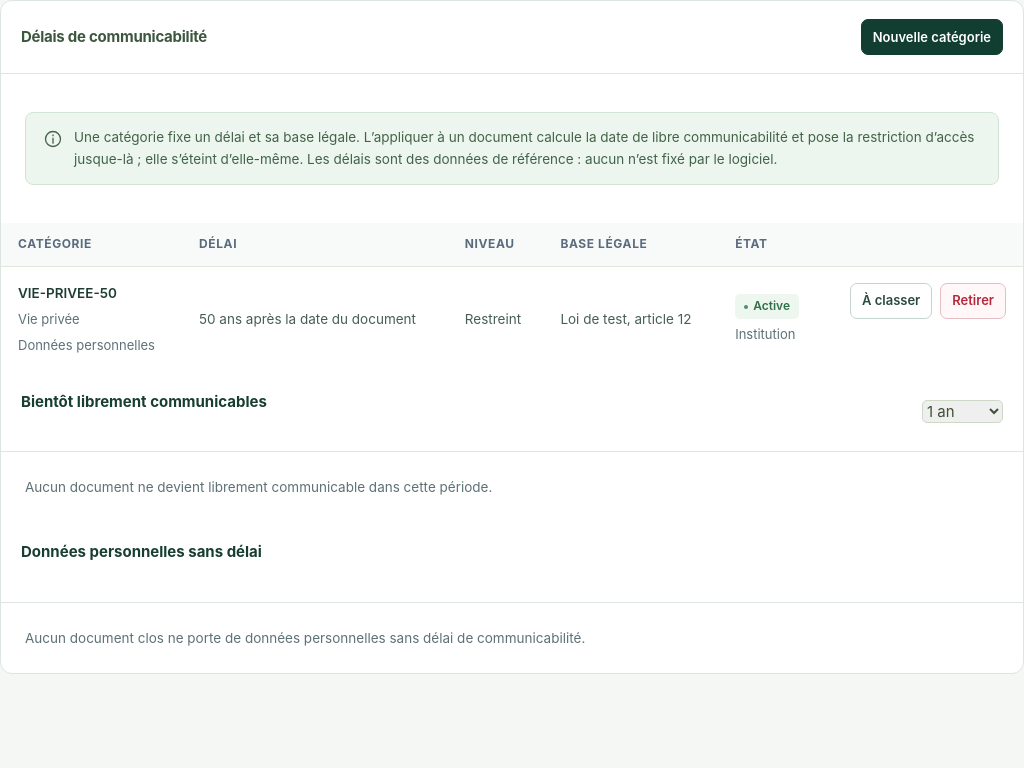
les documents à classer se cochent, les obstacles se lisent, et le lot part avec les documents choisis
Click the button with aria-label "À classer pour VIE-PRIVEE-50": {"x": 891, "y": 301} [850,283,932,319]
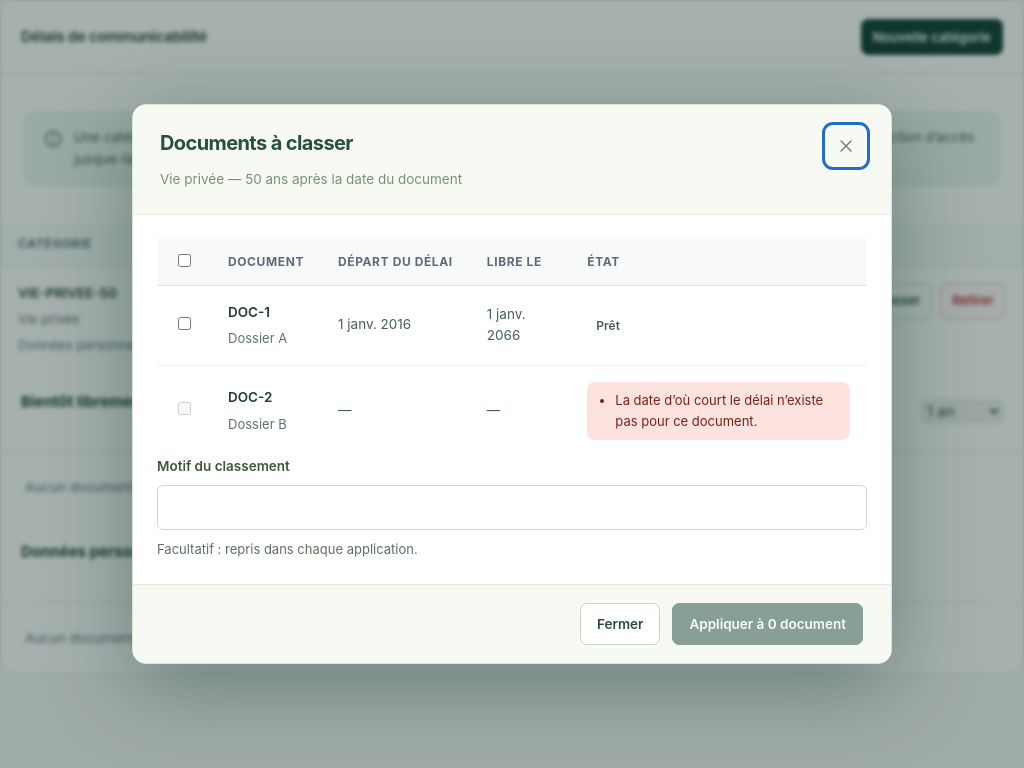
Now the text "DOC-1" is shown, box [228,304,270,320]
Now the list item "La date d’où court le délai n’existe pas pour ce document." is shown, box [615,390,838,432]
Now the checkbox named "Choisir DOC-2" is disabled, box [178,402,191,416]
Click the checkbox named "Tout choisir": {"x": 184, "y": 260} [178,254,191,267]
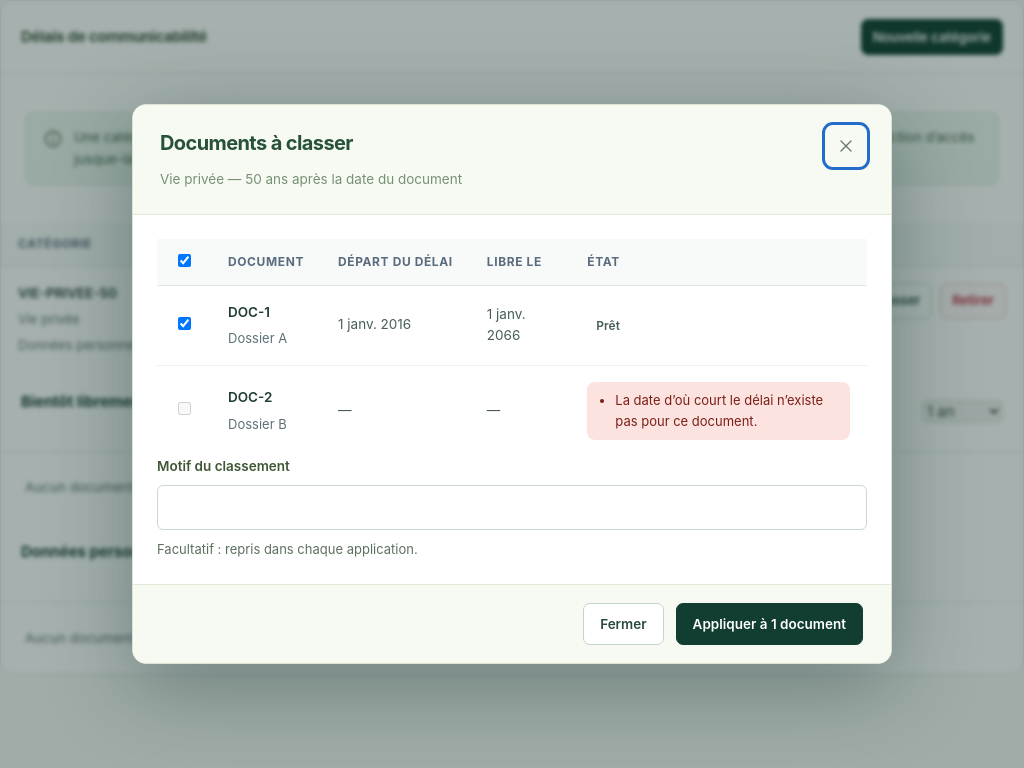
Now the button "Appliquer à 1 document" is shown
Click the button "Appliquer à 1 document": {"x": 769, "y": 624} [676,603,863,645]
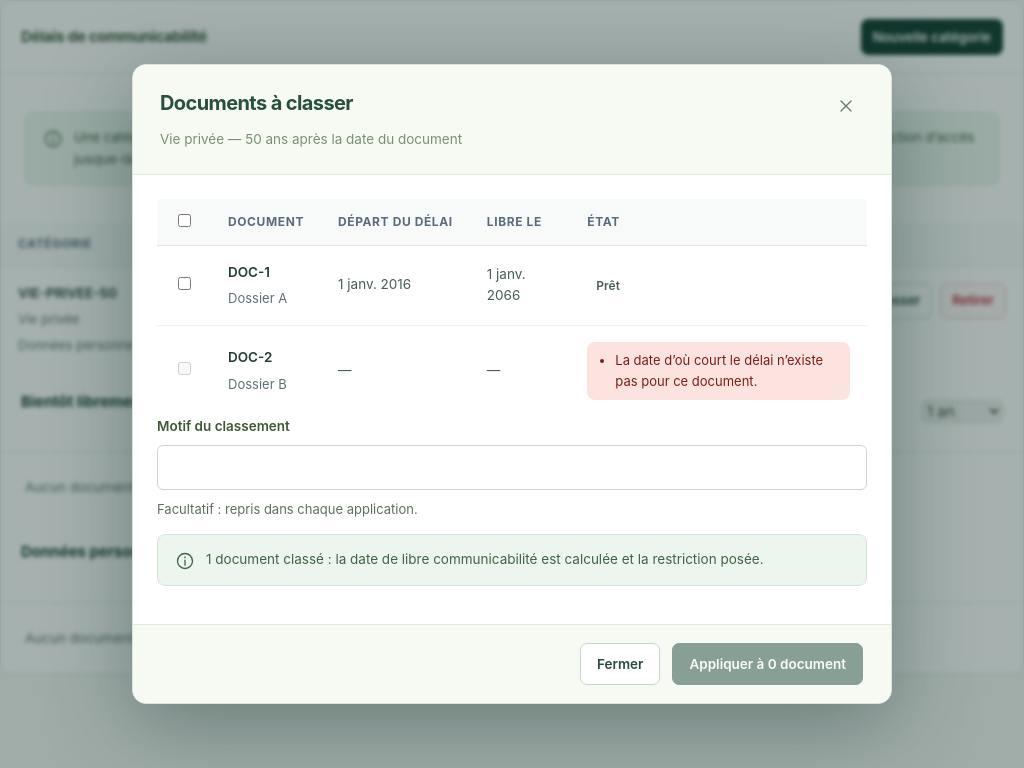
Now the text "1 document classé" is shown, box [206,549,764,571]
